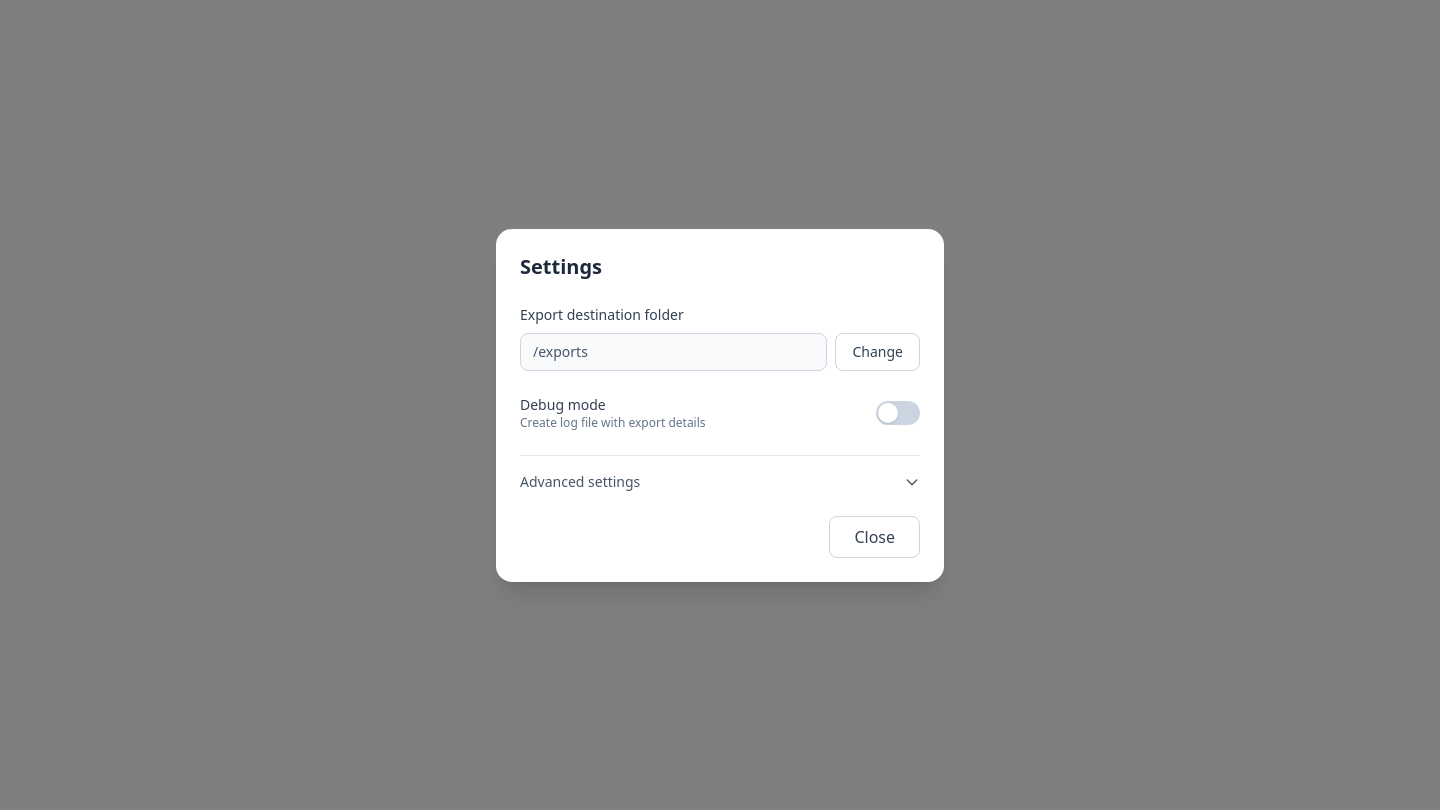
Scenario: SettingsModal › shows the iPhone backup location section under advanced settings
Expected: the text "iPhone backup location" is not shown
Step 1. Click the button "Advanced settings" → (580, 481), box 520,472 -> 920,492
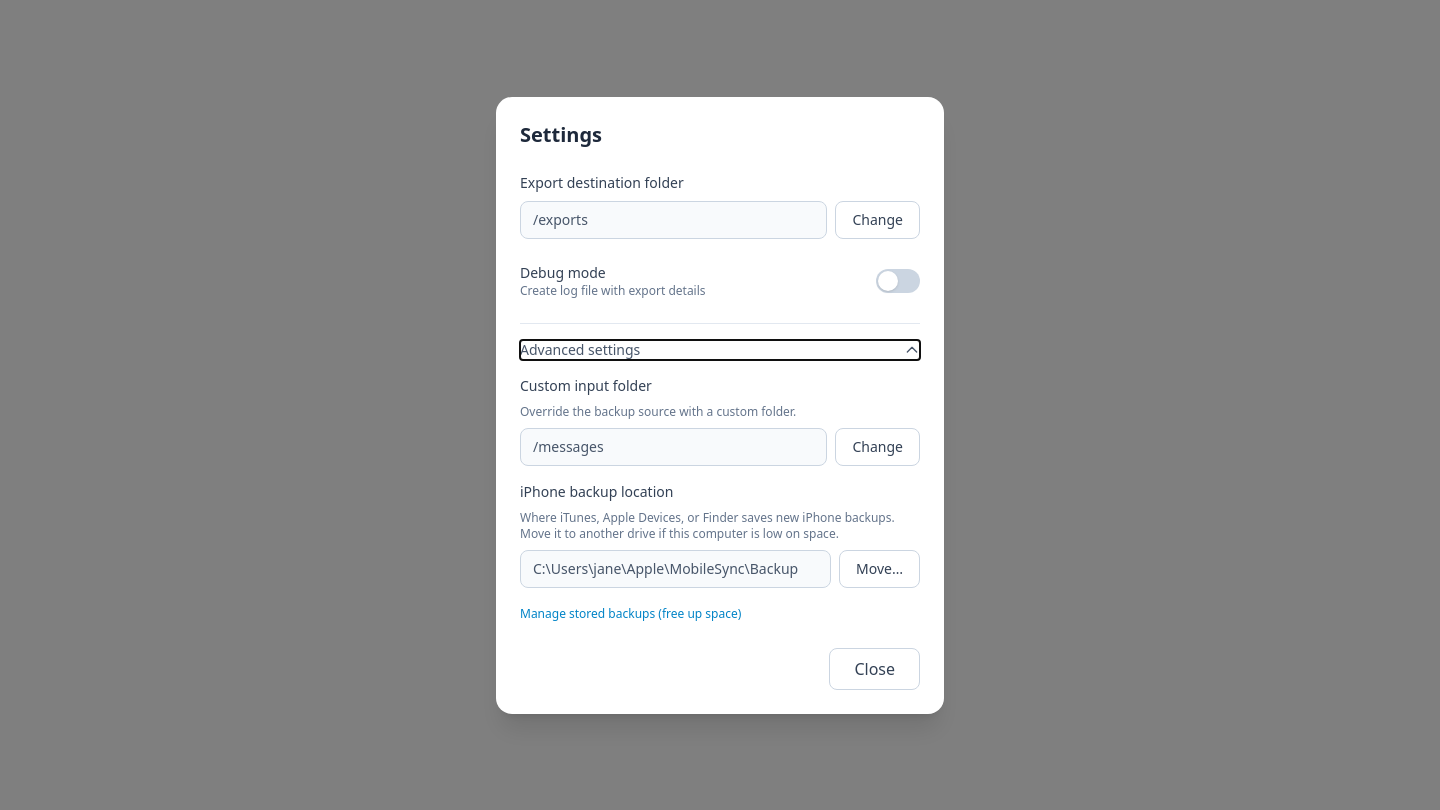
Expected: the text "iPhone backup location" is shown, 520,482 -> 673,500
Expected: the button "Move…" is shown, 839,550 -> 920,588
